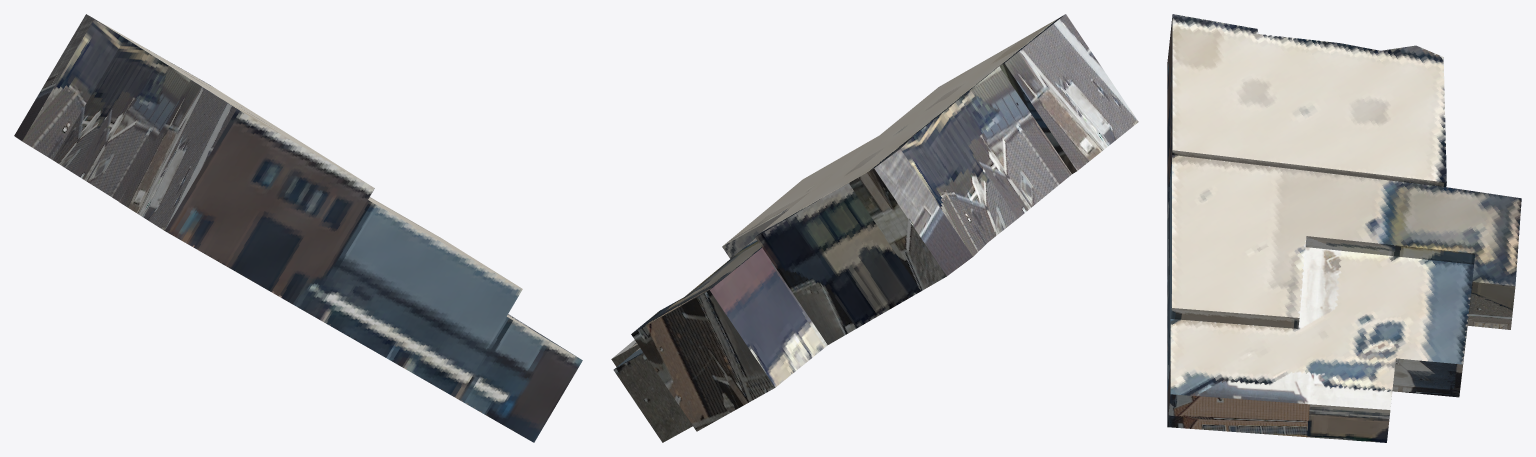
3 renders of one model, left to right at view 1: azimuth 30°, elevation 25°; view 2: azimuth 150°, elevation 25°; view 3: azimuth 270°, elevation 25°, orthographic. The views are drawn at different scales.
Visible parts, largest first — view 1: BAG_0599100000760489 (×5); view 2: BAG_0599100000760489 (×5); view 3: BAG_0599100000760489 (×5).
Boxes of the visible parts, box(x1,y1,x2,y2) form: BAG_0599100000760489 (×5): box(14, 14, 582, 442); BAG_0599100000760489 (×5): box(611, 14, 1138, 442); BAG_0599100000760489 (×5): box(1167, 14, 1521, 442).
Bounding box in the file's own units: 26.87 × 25.56 × 25.73.
5 materials, 5 textured.
